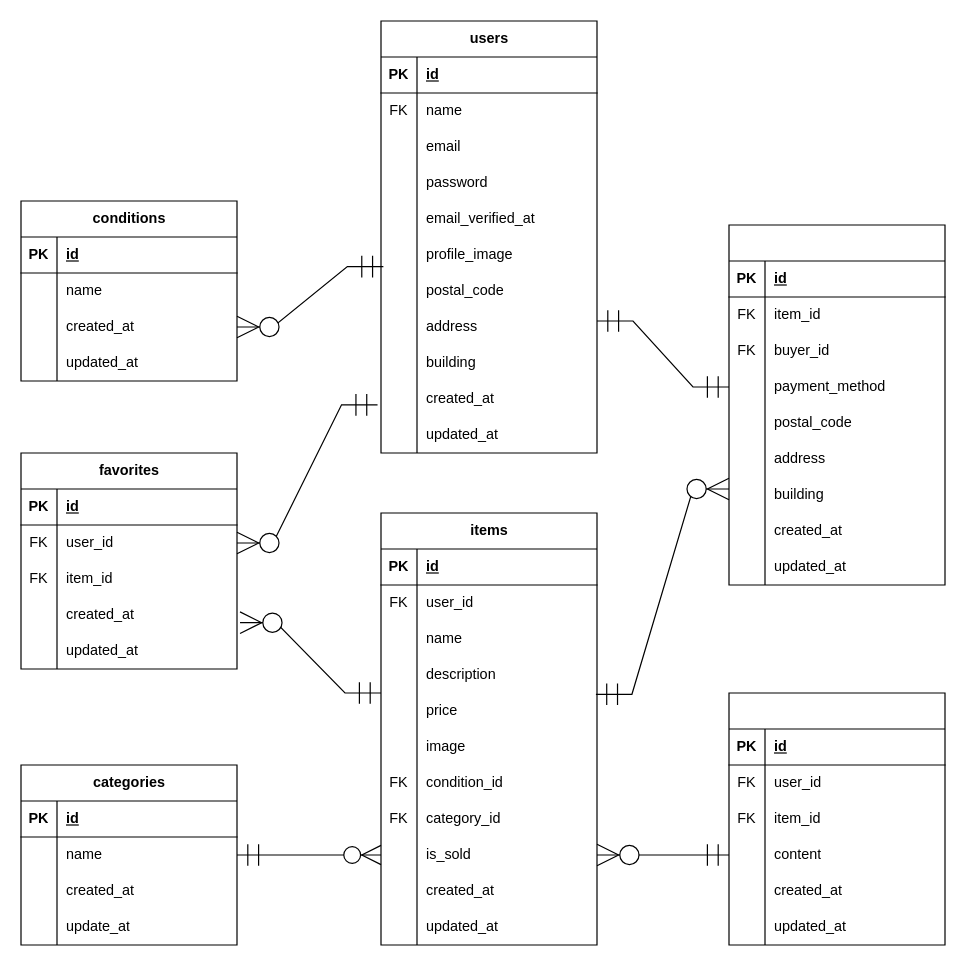
Image size: 966x966. Some labels were removed from this diagram. Here are the shapes that lost their labels. From the top down, the box of each, then its label:
(728, 224, 945, 585): purchases
(728, 692, 945, 945): comments
